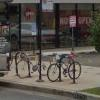Bicycle: (14, 47, 87, 87)
